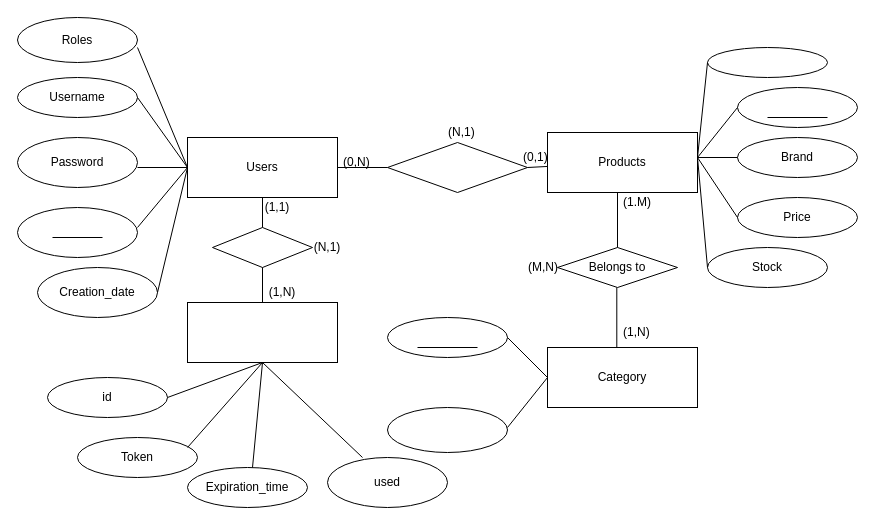
Image size: 875x525. Some labels were removed from this diagram. Each missing label, with the centre of its shape:
"Buy" belongs at point 457,167.
"Category_id" belongs at point 447,337.
"Description" belongs at point 447,429.
"Email" belongs at point 77,232.
"Expiration_date" belongs at point 767,62.
"Have" belongs at point 262,247.
"Product_Id" belongs at point 797,107.
"Refresh_Token" belongs at point 262,332.
